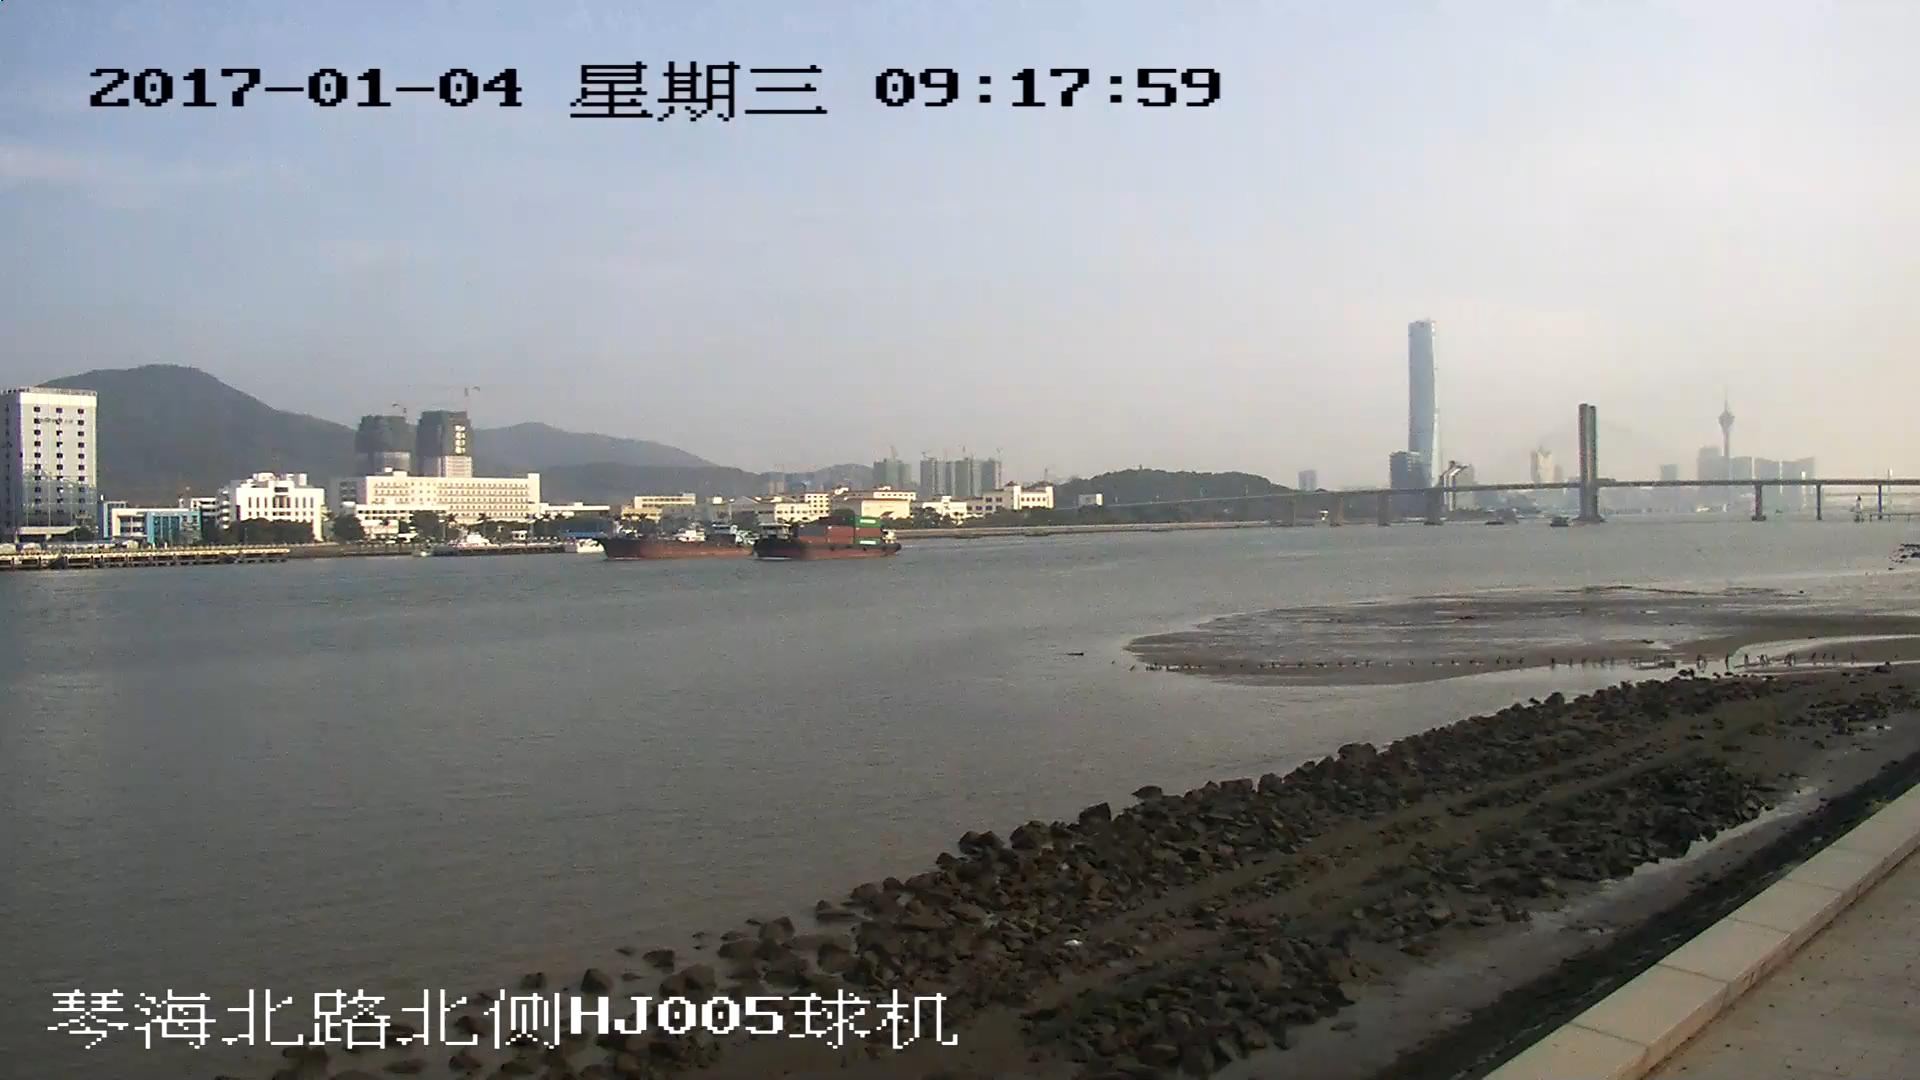container ship: (757, 509, 897, 560)
